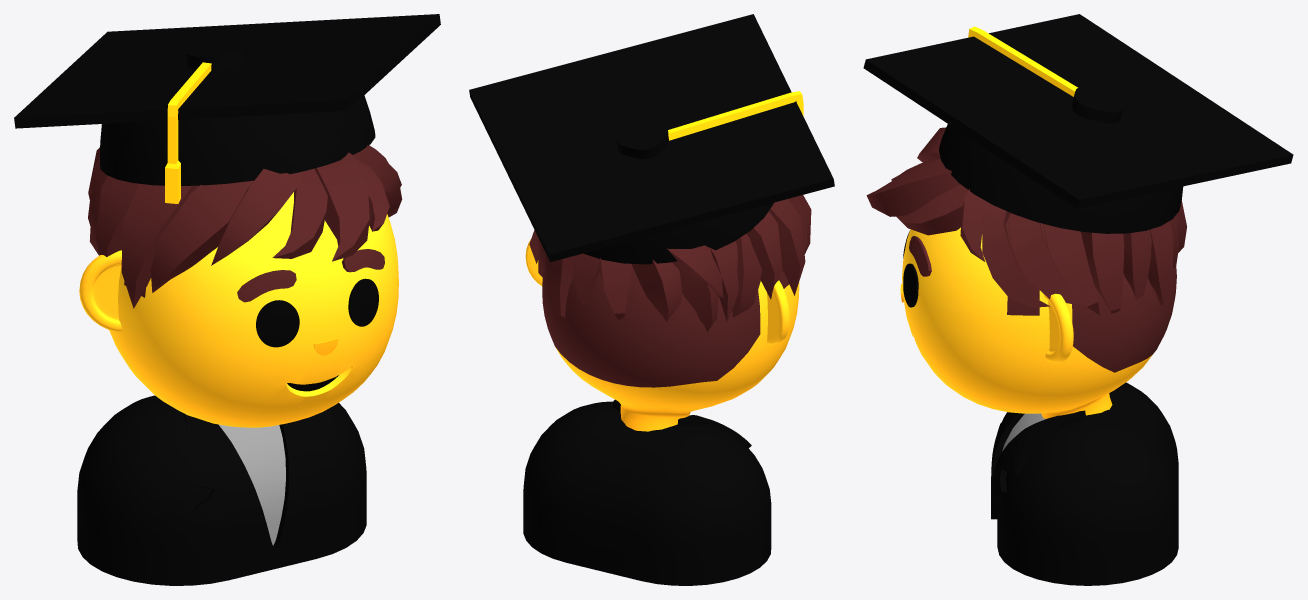
Rendered from student.gltf.
3 renders of one model, left to right at view 1: azimuth 30°, elevation 25°; view 2: azimuth 150°, elevation 25°; view 3: azimuth 270°, elevation 25°, orthographic. The views are drawn at different scales.
Parts seen in each view (by area): view 1: Circle.553, Roundcube.077, Sphere.037, Cube.912, Circle.552, Circle.549, Cylinder.070, Plane.030, Circle.551; view 2: Circle.553, Sphere.037, Roundcube.077, Cube.912, Plane.030, Cylinder.070, Circle.552; view 3: Circle.553, Roundcube.077, Sphere.037, Cube.912, Circle.552, Cylinder.070, Plane.030, Circle.549, Circle.551.
Part boxes in pixels (x1,y1,x2,y2): Circle.553: (14, 14, 440, 185); Roundcube.077: (109, 192, 398, 427); Sphere.037: (77, 395, 366, 585); Cube.912: (88, 145, 402, 308); Circle.552: (182, 413, 343, 557); Circle.549: (256, 278, 378, 347); Cylinder.070: (79, 250, 121, 332); Plane.030: (165, 62, 211, 203); Circle.551: (237, 249, 384, 302); Circle.553: (469, 14, 834, 264); Sphere.037: (523, 401, 771, 585); Roundcube.077: (542, 265, 799, 431); Cube.912: (529, 195, 811, 332); Plane.030: (668, 91, 803, 140); Cylinder.070: (525, 238, 789, 344); Circle.552: (612, 399, 751, 448); Circle.553: (863, 14, 1293, 233); Roundcube.077: (902, 213, 1176, 418); Sphere.037: (997, 382, 1178, 585); Cube.912: (866, 127, 1186, 315); Circle.552: (991, 410, 1085, 519); Cylinder.070: (1044, 293, 1073, 363); Plane.030: (968, 26, 1077, 96); Circle.549: (903, 231, 918, 307); Circle.551: (909, 236, 931, 276).
Size of the model in its own units: 2.07 by 2.43 by 2.02.
2 materials, 2 textured.
